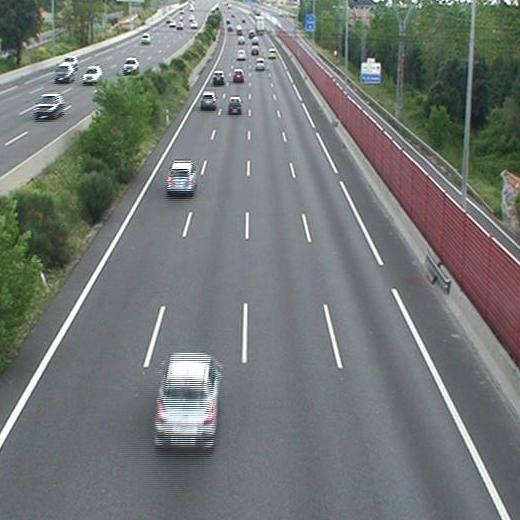car: (156, 354, 218, 445), (167, 162, 195, 191), (200, 93, 216, 109), (229, 97, 242, 113), (212, 71, 225, 85), (232, 70, 244, 82), (254, 59, 265, 71), (250, 45, 260, 58), (236, 49, 246, 61)
